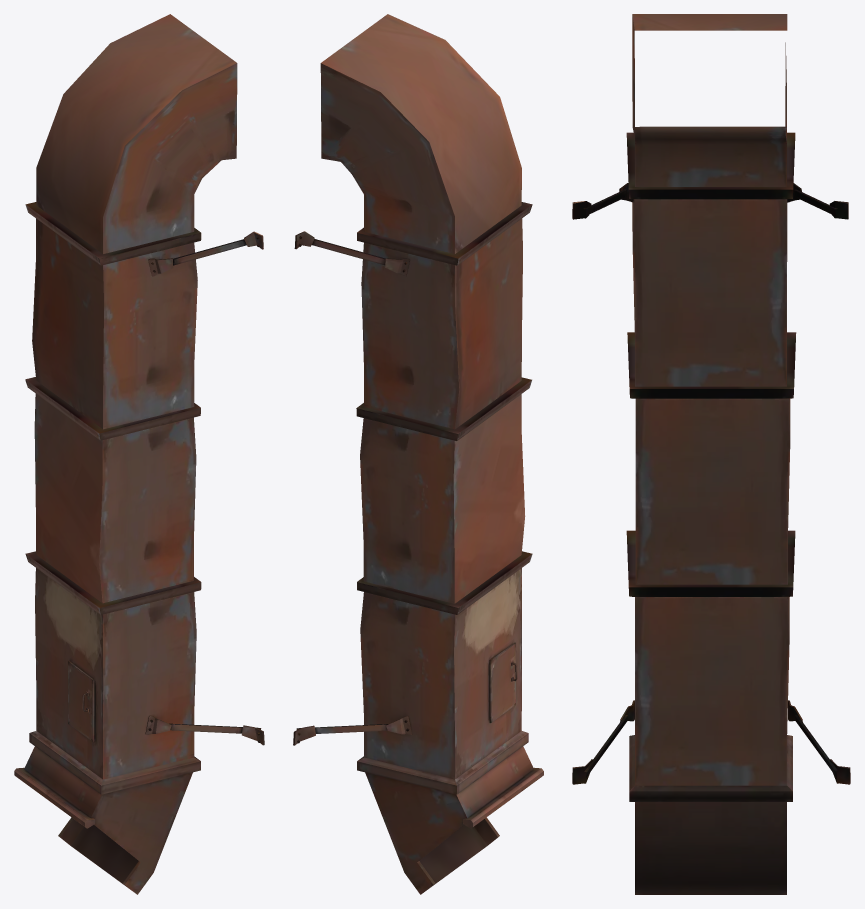
3 renders of one model, left to right at view 1: azimuth 30°, elevation 25°; view 2: azimuth 150°, elevation 25°; view 3: azimuth 270°, elevation 25°, orthographic. The views are drawn at different scales.
Parts seen in each view (by area): view 1: body0_model0_lod0_mesh0; view 2: body0_model0_lod0_mesh0; view 3: body0_model0_lod0_mesh0.
Boxes of the visible parts, x1,y1,x2,y2 form: body0_model0_lod0_mesh0: (14, 14, 264, 894); body0_model0_lod0_mesh0: (293, 14, 543, 894); body0_model0_lod0_mesh0: (572, 14, 850, 894).
Size of the model in its own units: 91.82 by 452 by 124.
1 material, 1 textured.
